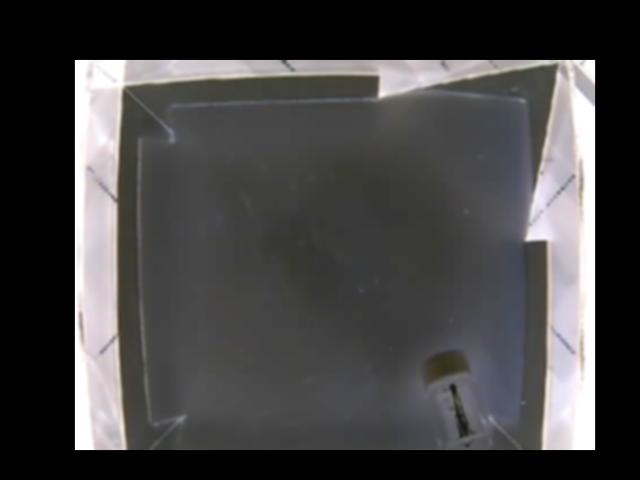Bottle: (420, 347, 487, 449)
